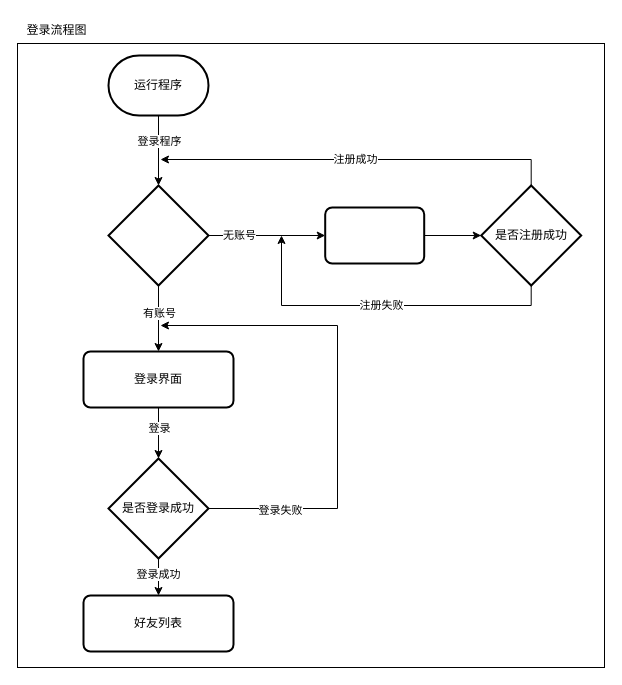
This 622x685 diagram has some shape labels left out. Here are the shapes that lost their labels. From the top down, the centre of each, then its label:
the point at 158,235: 是否拥有账号
the point at 374,235: 注册账号界面
